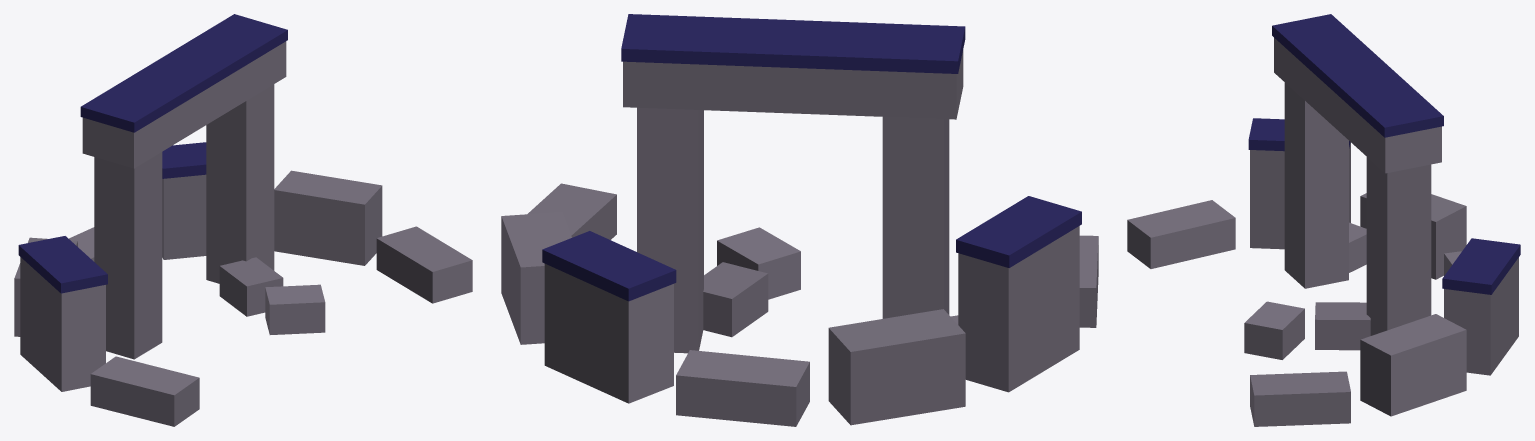
File: MODULE_DESERT_FULL_RUINS.fbx
The picture shows the model from 3 angles, left to right: view 1: azimuth 30°, elevation 25°; view 2: azimuth 150°, elevation 25°; view 3: azimuth 270°, elevation 25°; orthographic projection. The views are drawn at different scales.
Parts seen in each view (by area): view 1: MODULE_DESERT_FULL_RUINS_DECOR__export; view 2: MODULE_DESERT_FULL_RUINS_DECOR__export; view 3: MODULE_DESERT_FULL_RUINS_DECOR__export.
Part boxes in pixels (x1,y1,x2,y2): MODULE_DESERT_FULL_RUINS_DECOR__export: [14, 14, 472, 426]; MODULE_DESERT_FULL_RUINS_DECOR__export: [501, 14, 1098, 426]; MODULE_DESERT_FULL_RUINS_DECOR__export: [1127, 14, 1520, 426].
Size of what is drawn, in the model's own units: 34.09 by 19.2 by 28.35.
